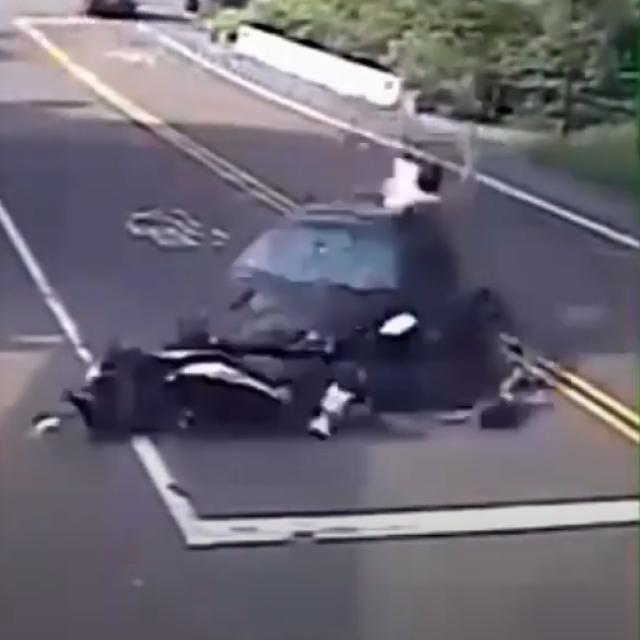accident: (28, 140, 554, 444)
